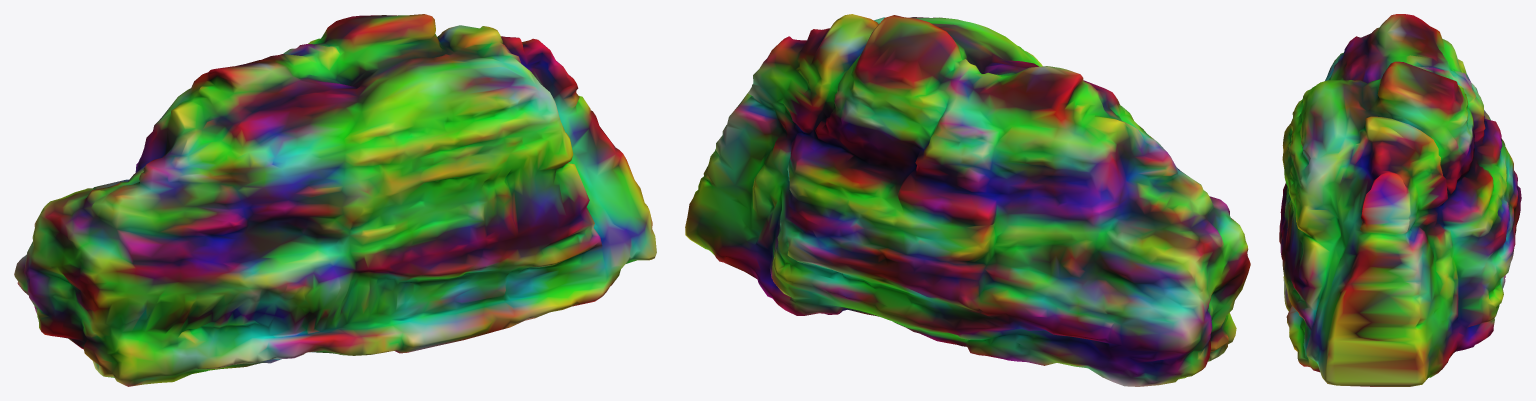
Rendered from Cliff_01_Mesh.fbx.
3 renders of one model, left to right at view 1: azimuth 30°, elevation 25°; view 2: azimuth 150°, elevation 25°; view 3: azimuth 270°, elevation 25°, orthographic. The views are drawn at different scales.
Parts seen in each view (by area): view 1: Cliff_01_LOD0; view 2: Cliff_01_LOD0; view 3: Cliff_01_LOD0.
Boxes of the visible parts, box(x1,y1,x2,y2) form: Cliff_01_LOD0: box(14, 14, 656, 386); Cliff_01_LOD0: box(685, 14, 1250, 386); Cliff_01_LOD0: box(1279, 14, 1521, 386).
Bounding box in the file's own units: 2750 × 1227 × 1361.
